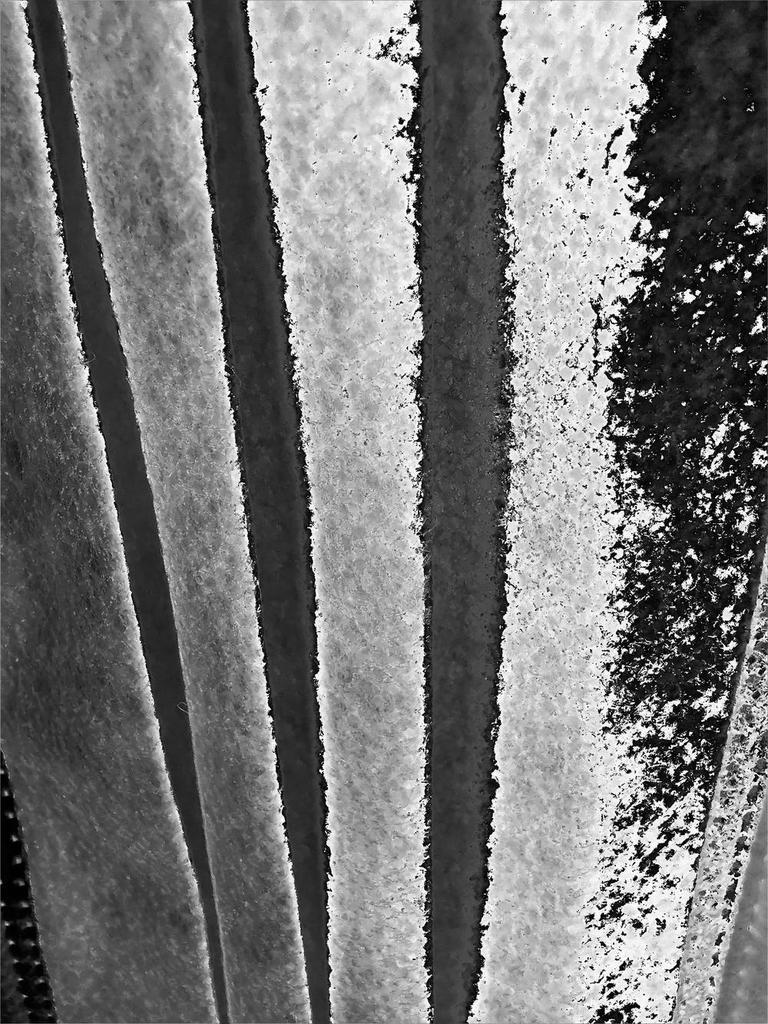High GSM: (1, 1, 766, 1024)
